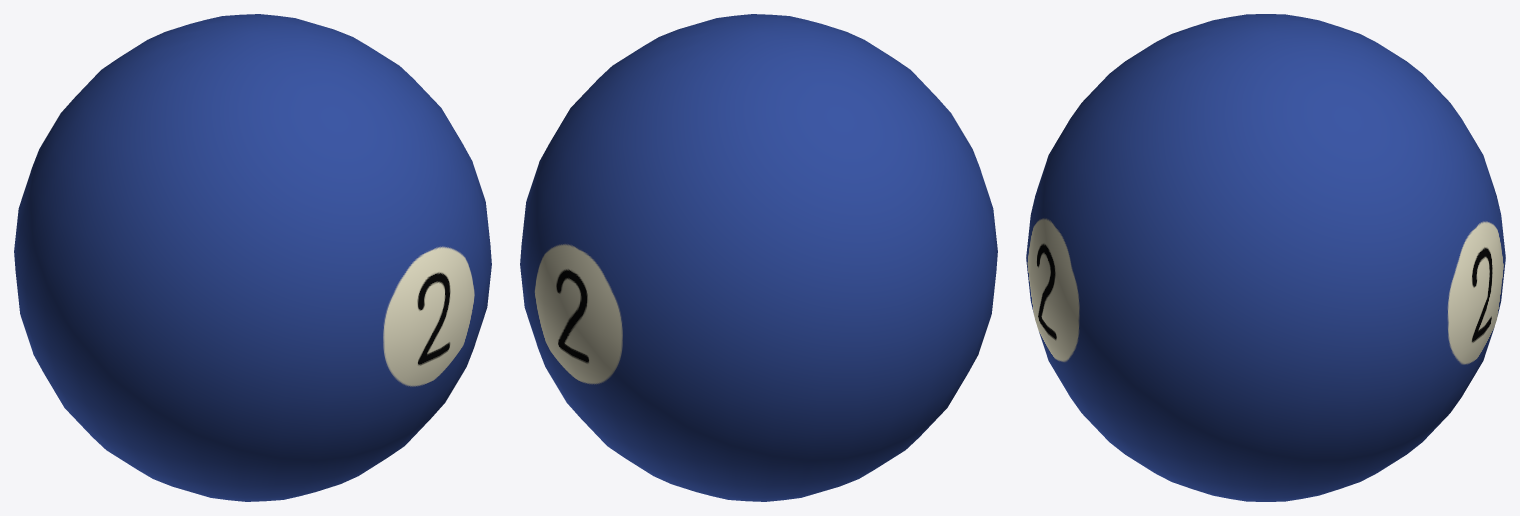
File: ball_02_LOD0.fbx
3 renders of one model, left to right at view 1: azimuth 30°, elevation 25°; view 2: azimuth 150°, elevation 25°; view 3: azimuth 270°, elevation 25°, orthographic.
Parts seen in each view (by area): view 1: ball_02_LOD0; view 2: ball_02_LOD0; view 3: ball_02_LOD0.
Part boxes in pixels (<box>): ball_02_LOD0: <box>14,14,491,501</box>; ball_02_LOD0: <box>520,14,997,501</box>; ball_02_LOD0: <box>1026,14,1505,501</box>.
Bounding box in the file's own units: 5.5 × 5.67 × 5.5.
